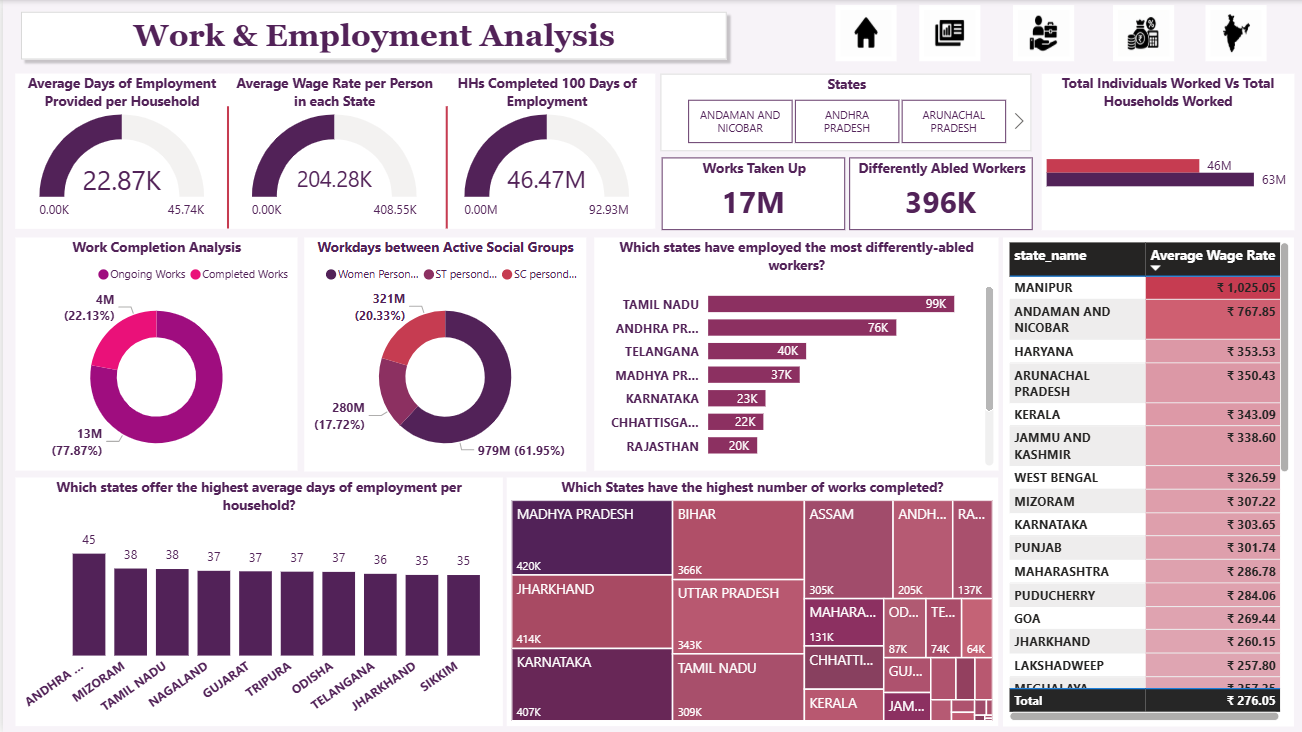

What the dashboard file says about the page in this screenshot:
{"tool":"powerbi","page":{"name":"Work & Employment Analysis","canvas":[1280,720],"ordinal":2},"visuals":[{"type":"shape","box":[12,72.4,628,152],"z":0},{"type":"shape","box":[11,5,706,60.1],"z":1000},{"type":"textbox","title":"Work & Employment Analysis","box":[120.2,17.2,488.3,36.8],"z":2000},{"type":"image","box":[899,5,60,55],"z":3000},{"type":"image","box":[817,5,60,55],"z":4000},{"type":"image","box":[1090,5,60,55],"z":5000},{"type":"image","box":[992,5,60,55],"z":6000},{"type":"image","box":[1180,5,60,55],"z":7000},{"type":"gauge","title":"Average Days of Employment Provided per Household","fields":{"Y":["Sum(NREGA Data.Average days of employment provided per Household)"]},"box":[12,72,209,152],"z":8000},{"type":"gauge","title":"Average Wage Rate per Person in each State","fields":{"Y":["Sum(NREGA Data.Average Wage rate per day per person(Rs.))"]},"box":[221,72,209,152],"z":9000},{"type":"gauge","title":"HHs Completed 100 Days of Employment","fields":{"Y":["Sum(NREGA Data.Total Households Worked)"]},"box":[430,72,209,152],"z":10000},{"type":"card","title":"Works Taken Up","fields":{"Values":["NREGA Data.Total Works Taken Up"]},"box":[647,155,180,71],"z":11000},{"type":"card","title":"Differently Abled Workers","fields":{"Values":["NREGA Data.Differently Abled Workers"]},"box":[831,155,180,71],"z":12000},{"type":"donutChart","title":"Work Completion Analysis","fields":{"Y":["NREGA Data.Ongoing Works","NREGA Data.Completed Works"]},"box":[12,233,277,229],"z":13000},{"type":"donutChart","title":"Workdays between Active Social Groups","fields":{"Y":["Sum(NREGA Data.Women Persondays)","Sum(NREGA Data.ST persondays)","Sum(NREGA Data.SC persondays)"]},"box":[296,233,277,229],"z":14000},{"type":"slicer","title":"States","fields":{"Values":["NREGA Data.state_name"]},"box":[646,73,364,76],"z":15000},{"type":"clusteredBarChart","title":"Total Individuals Worked Vs Total Households Worked","fields":{"Y":["Sum(NREGA Data.Total Households Worked)","Sum(NREGA Data.Total Individuals Worked)"]},"box":[1019.6,72.4,247.9,153.4],"z":16000},{"type":"clusteredBarChart","title":"Which states have employed the most differently-abled workers?","fields":{"Y":["NREGA Data.Differently Abled Workers"],"Category":["NREGA Data.state_name"]},"box":[580,233,397,229],"z":17000},{"type":"tableEx","fields":{"Values":["NREGA Data.state_name","NREGA Data.Average Wage Rate"]},"box":[981.6,233.1,285.9,479.8],"z":18000},{"type":"clusteredColumnChart","title":"Which states offer the highest average days of employment per household?","fields":{"Category":["NREGA Data.state_name"],"Y":["NREGA Data.Average Employment Days"]},"box":[12,469,478,244],"z":19000},{"type":"treemap","title":"Which States have the highest number of works completed?","fields":{"Group":["NREGA Data.state_name"],"Values":["NREGA Data.Total Completed Works","select"]},"box":[495,469,482,244],"z":20000},{"type":"shape","box":[214.7,104,12.3,120.2],"z":21000},{"type":"shape","box":[429,104,12.3,120.2],"z":22000}]}

Visuals, with their boxes in screenshot pixels (x1, y1, x2, y2), scaled from the page's 1280x720 canvas onto the 1302x732 screenshot:
shape: x1=12, y1=74, x2=651, y2=228
shape: x1=11, y1=5, x2=729, y2=66
"Work & Employment Analysis" textbox: x1=122, y1=17, x2=619, y2=55
image: x1=914, y1=5, x2=975, y2=61
image: x1=831, y1=5, x2=892, y2=61
image: x1=1109, y1=5, x2=1170, y2=61
image: x1=1009, y1=5, x2=1070, y2=61
image: x1=1200, y1=5, x2=1261, y2=61
"Average Days of Employment Provided per Household" gauge: x1=12, y1=73, x2=225, y2=228
"Average Wage Rate per Person in each State" gauge: x1=225, y1=73, x2=437, y2=228
"HHs Completed 100 Days of Employment" gauge: x1=437, y1=73, x2=650, y2=228
"Works Taken Up" card: x1=658, y1=158, x2=841, y2=230
"Differently Abled Workers" card: x1=845, y1=158, x2=1028, y2=230
"Work Completion Analysis" donutChart: x1=12, y1=237, x2=294, y2=470
"Workdays between Active Social Groups" donutChart: x1=301, y1=237, x2=583, y2=470
"States" slicer: x1=657, y1=74, x2=1027, y2=151
"Total Individuals Worked Vs Total Households Worked" clusteredBarChart: x1=1037, y1=74, x2=1289, y2=230
"Which states have employed the most differently-abled workers?" clusteredBarChart: x1=590, y1=237, x2=994, y2=470
tableEx - NREGA Data.state_name x NREGA Data.Average Wage Rate: x1=998, y1=237, x2=1289, y2=725
"Which states offer the highest average days of employment per household?" clusteredColumnChart: x1=12, y1=477, x2=498, y2=725
"Which States have the highest number of works completed?" treemap: x1=504, y1=477, x2=994, y2=725
shape: x1=218, y1=106, x2=231, y2=228
shape: x1=436, y1=106, x2=449, y2=228
